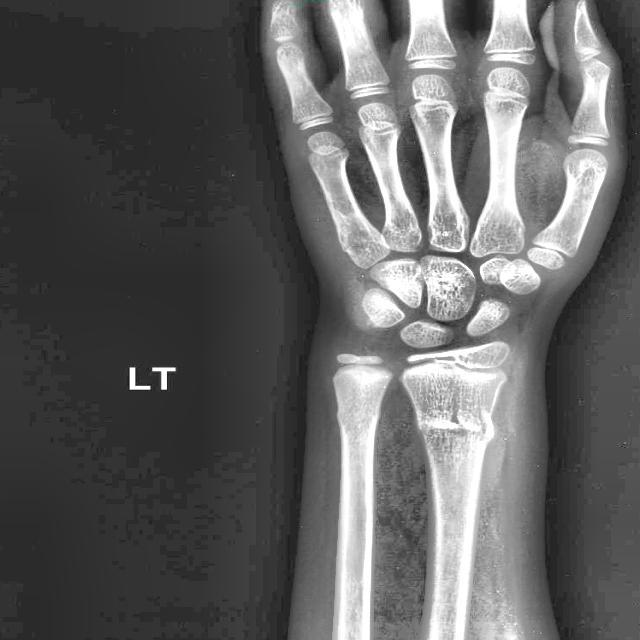fracture: (431, 411, 497, 444)
